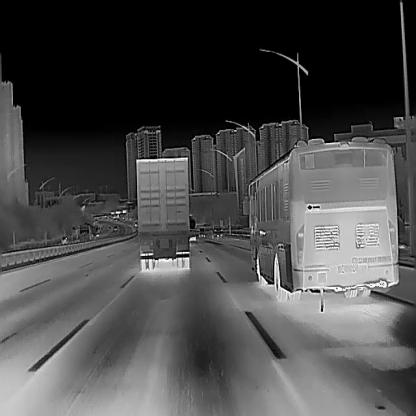bus: (242, 135, 398, 300)
car: (212, 225, 223, 233), (198, 232, 206, 238)
truck: (136, 156, 190, 271)
